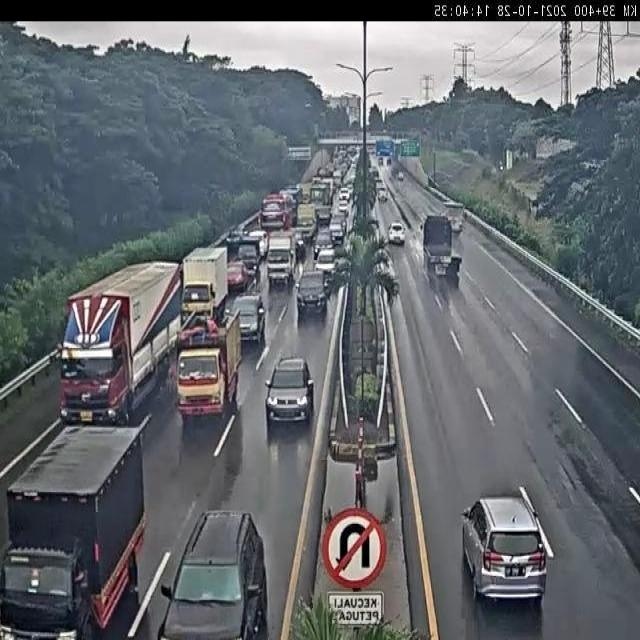Car: (161, 513, 267, 640), (461, 475, 552, 607), (264, 354, 314, 425), (227, 292, 265, 344), (295, 270, 329, 319), (382, 216, 409, 245), (314, 245, 336, 276), (248, 229, 269, 258), (329, 217, 345, 243), (344, 180, 355, 200), (334, 167, 345, 184), (347, 146, 357, 160)
Truck: (0, 424, 142, 637), (58, 260, 176, 422), (154, 322, 241, 430), (178, 246, 230, 324), (419, 205, 461, 282), (265, 233, 297, 288), (296, 202, 318, 240), (143, 380, 149, 384)
